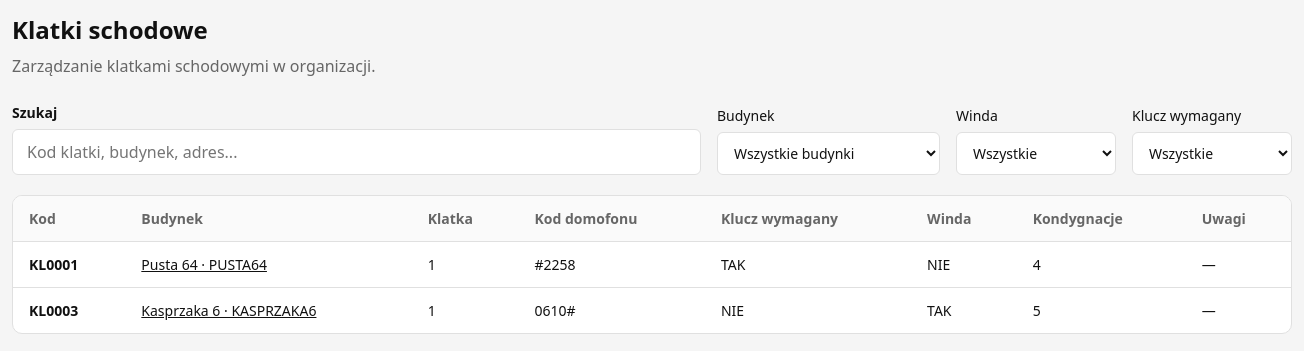
it: StaircasesPage › filters by elevator and key required
This screenshot has width=1304, height=351.
Check: the text "KL0001" is shown, box [13, 242, 125, 288]
Select "Tak" in the dropdown named "Filtr windy" at (1036, 154), box [956, 132, 1116, 175]
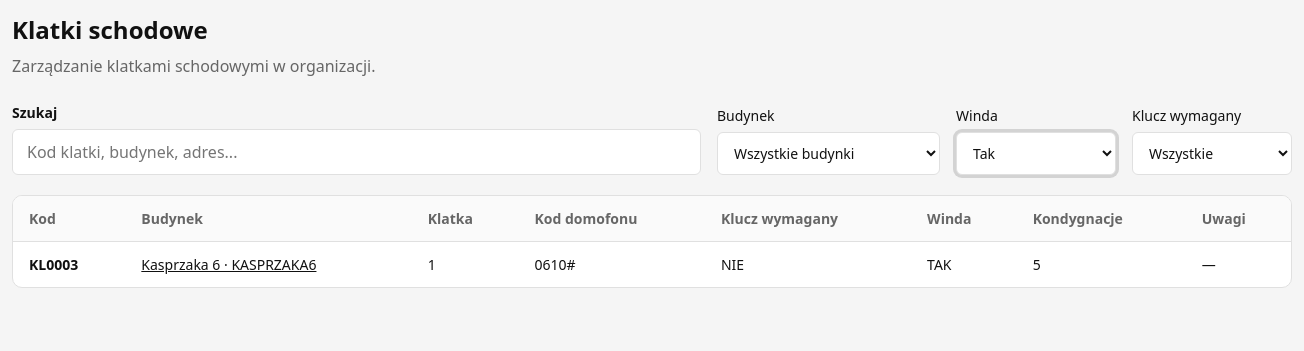
Check: the text "KL0003" is shown, box [13, 242, 125, 287]
Check: the text "KL0001" is gone
